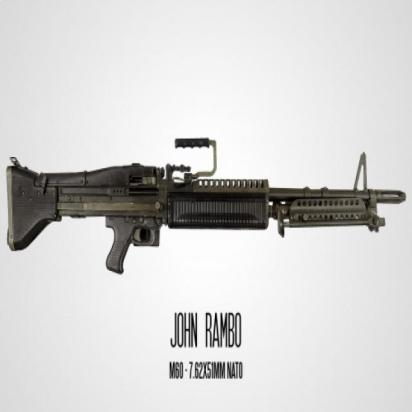Gun: (4, 138, 409, 280)
